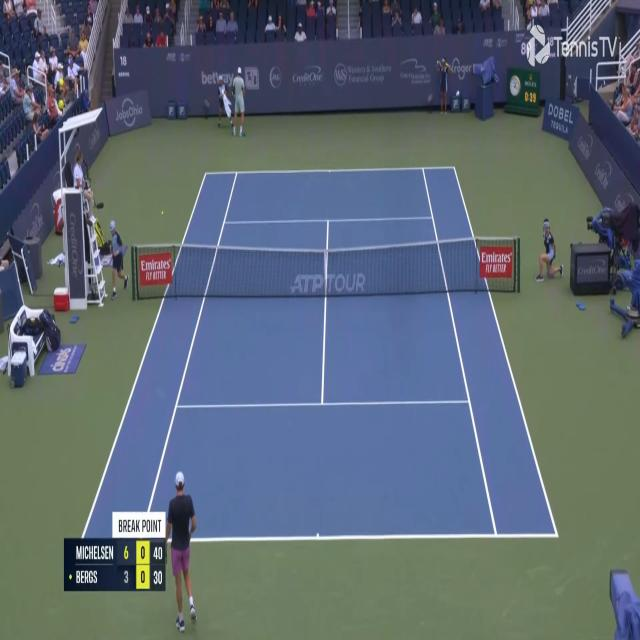tennis-player: (162, 467, 200, 635), (229, 63, 248, 138)
